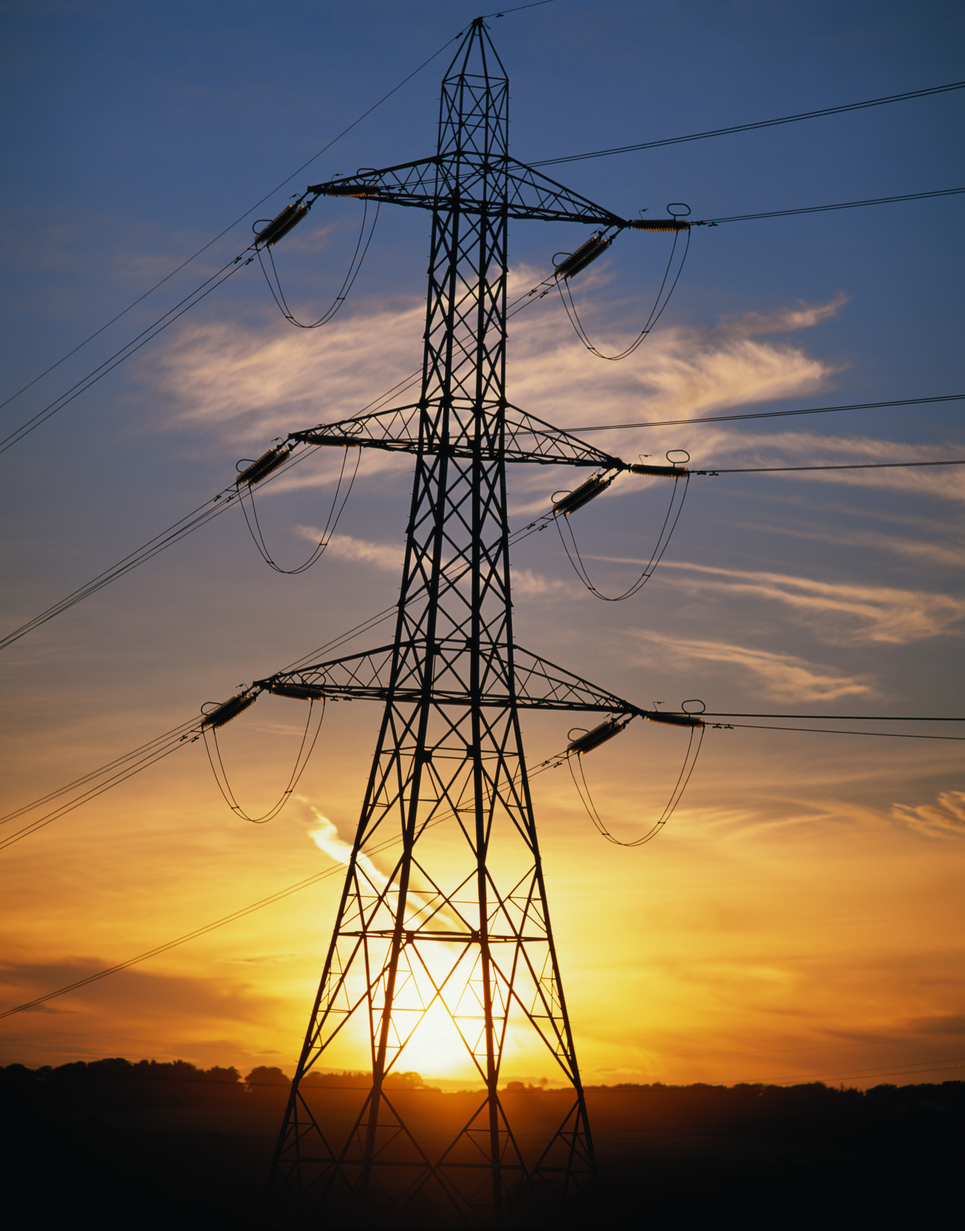insulator: (252, 203, 316, 248), (198, 689, 262, 733), (552, 233, 613, 277), (551, 475, 617, 515), (235, 447, 294, 486), (566, 720, 631, 754), (628, 458, 696, 483), (642, 709, 706, 731), (631, 214, 692, 235), (304, 430, 364, 450), (271, 683, 331, 702), (318, 182, 384, 199)
